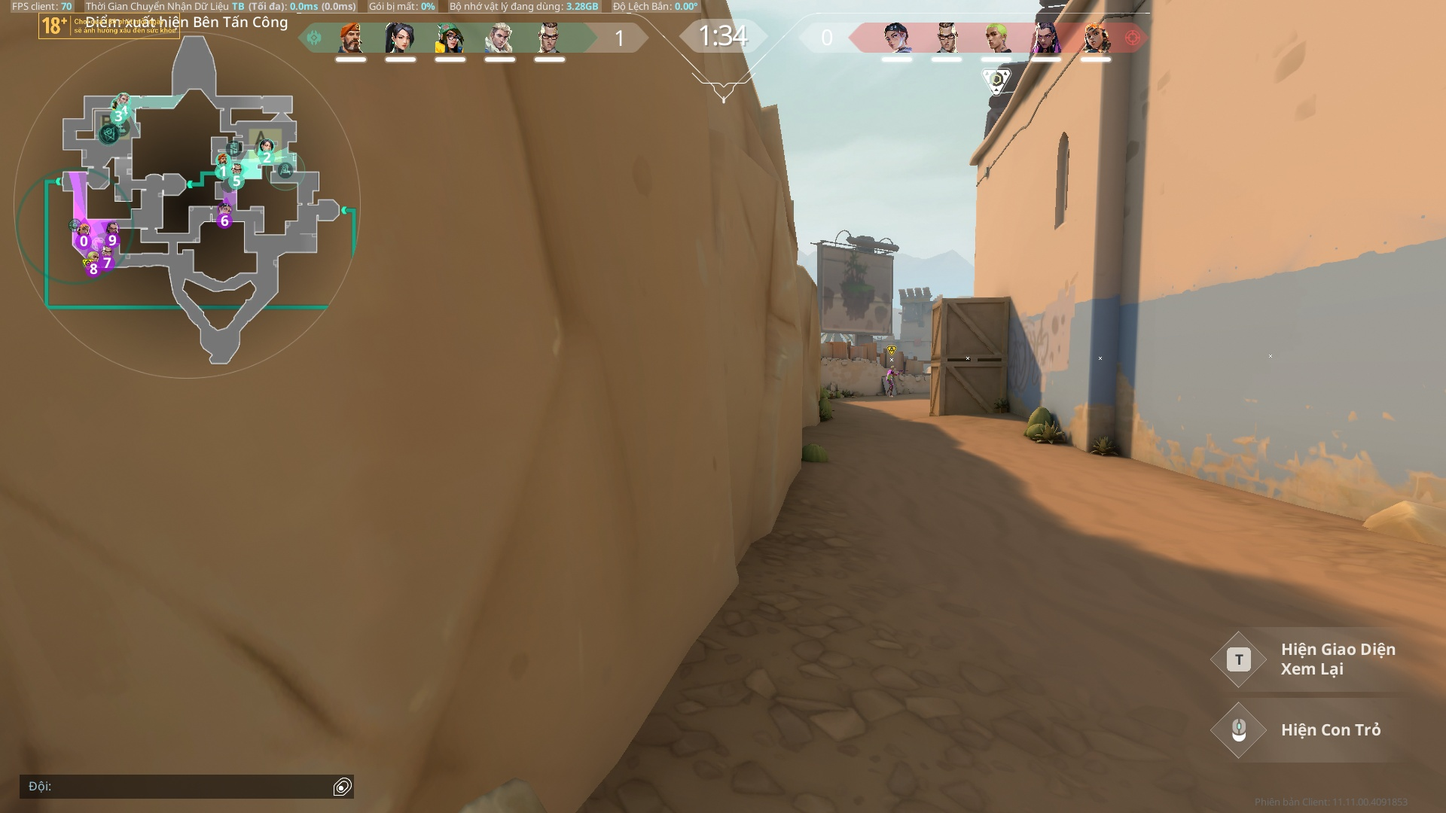body: (886, 369, 894, 379)
head: (889, 364, 895, 370)
